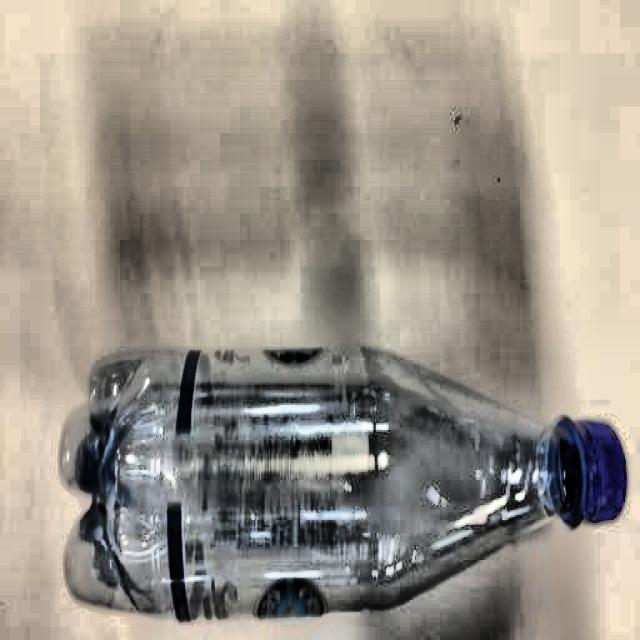plastic: (58, 345, 630, 616)
